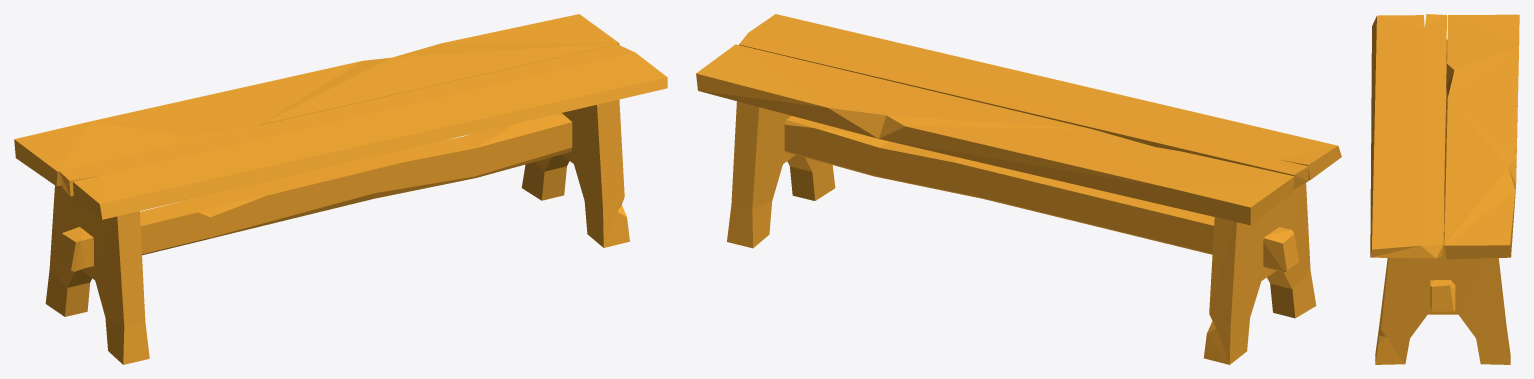
Rendered from SM_Bench_Simple_C_Fantasy.fbx.
3 views of the same model, side by side, from view 1: azimuth 30°, elevation 25°; view 2: azimuth 150°, elevation 25°; view 3: azimuth 270°, elevation 25° (orthographic). The views are drawn at different scales.
Visible parts, largest first — view 1: bench-simple-c-fantasy; view 2: bench-simple-c-fantasy; view 3: bench-simple-c-fantasy.
Part boxes in pixels (x1,y1,x2,y2): bench-simple-c-fantasy: (14,14,667,364); bench-simple-c-fantasy: (696,14,1341,364); bench-simple-c-fantasy: (1370,14,1519,364).
Bounding box in the file's own units: 1.8 × 0.5095 × 0.4997.
